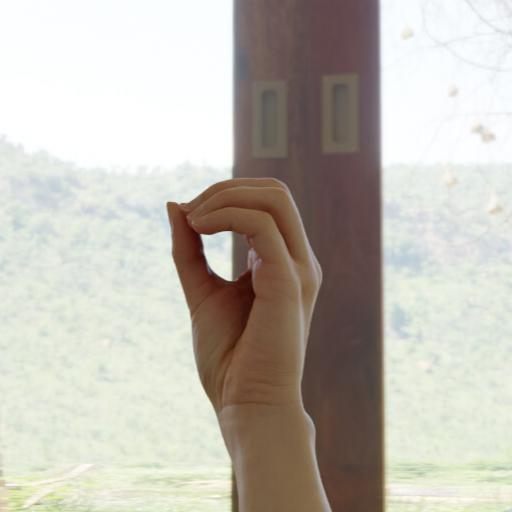O: (156, 164, 341, 512)
